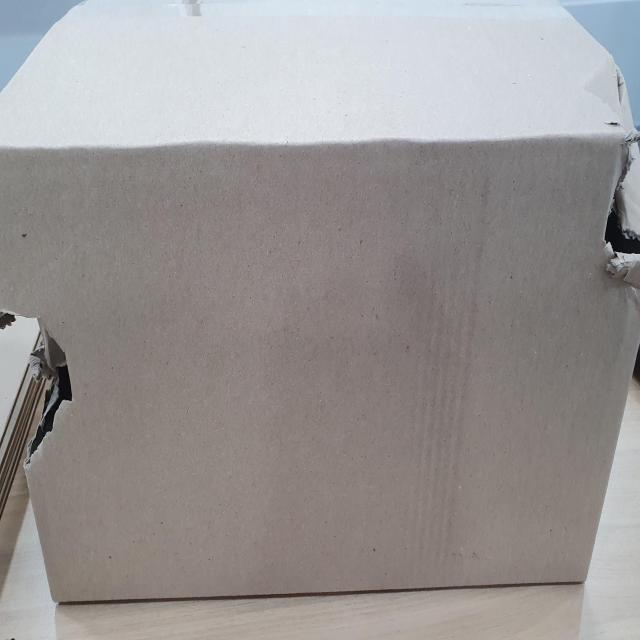damaged: (7, 302, 80, 469), (599, 54, 640, 320)
